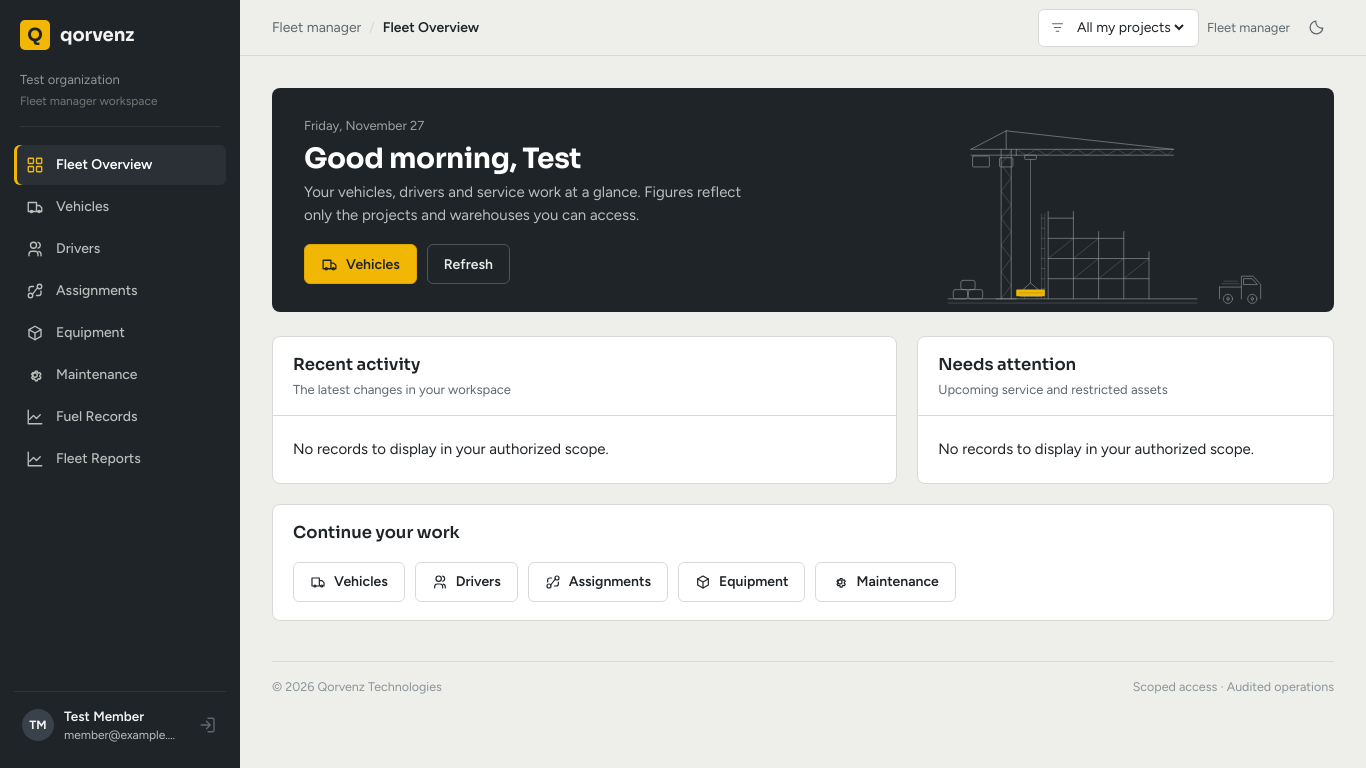
it: session lifecycle › keeps the session visible and reports failed logout
Expected: the heading "Good morning, Test" is shown, [304,142,581,175]
Click the button titled "Sign out" at (208, 725), box [190,707,226,743]
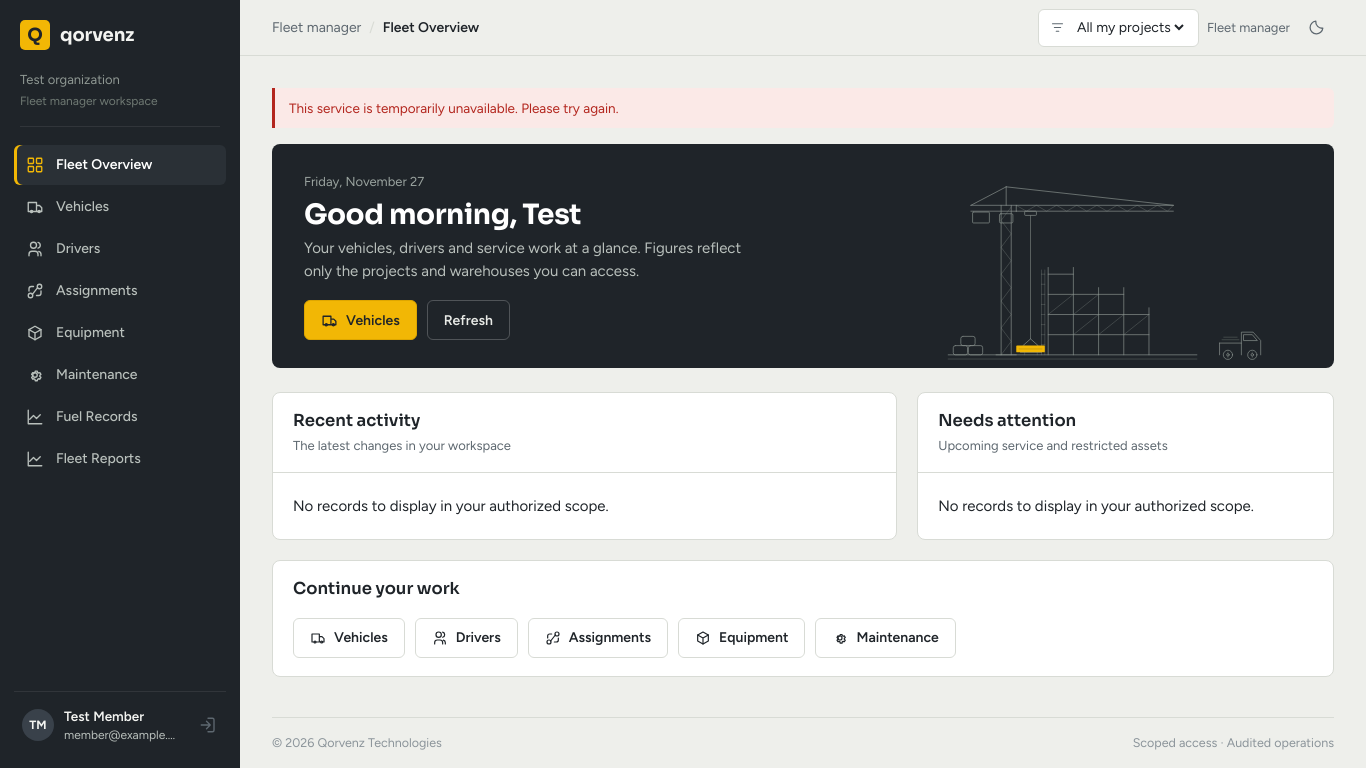
Expected: the heading "Good morning, Test" is shown, [304,198,581,231]
Result: the text "This service is temporarily unavailable. Please try again." is shown at [272,88,1334,128]
